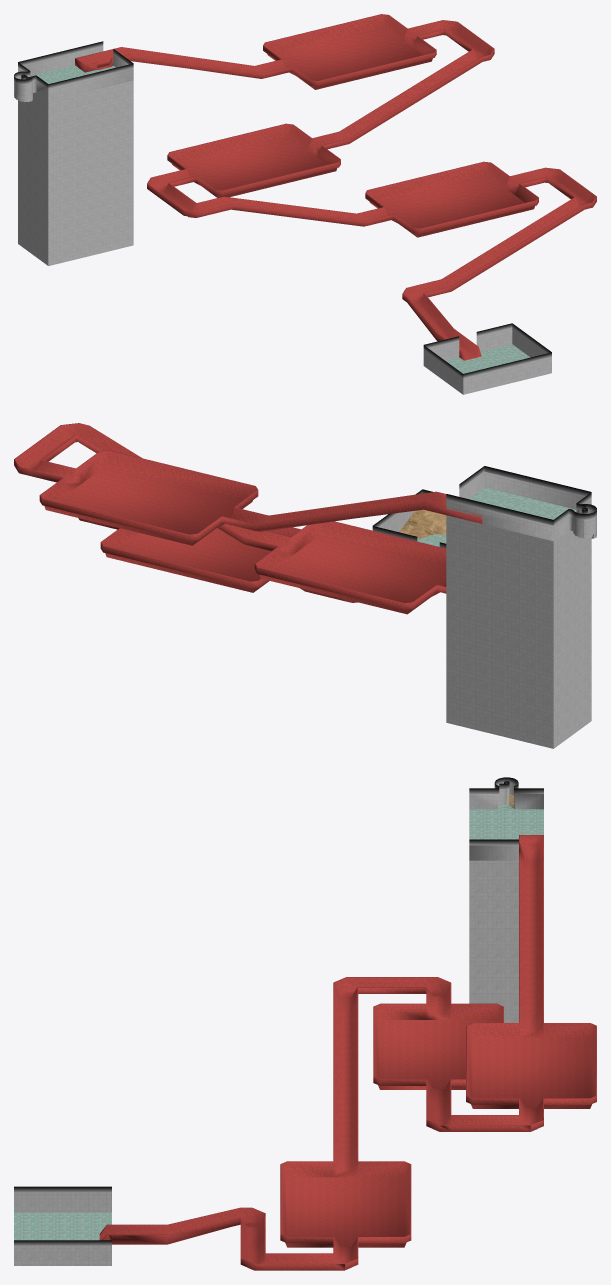
The model's file is view.obj.
The picture shows the model from 3 angles, top to bottom: view 1: azimuth 30°, elevation 25°; view 2: azimuth 150°, elevation 25°; view 3: azimuth 270°, elevation 25°; orthographic projection. The views are drawn at different scales.
Size of the model in its own units: 3807 by 1760 by 3253.
